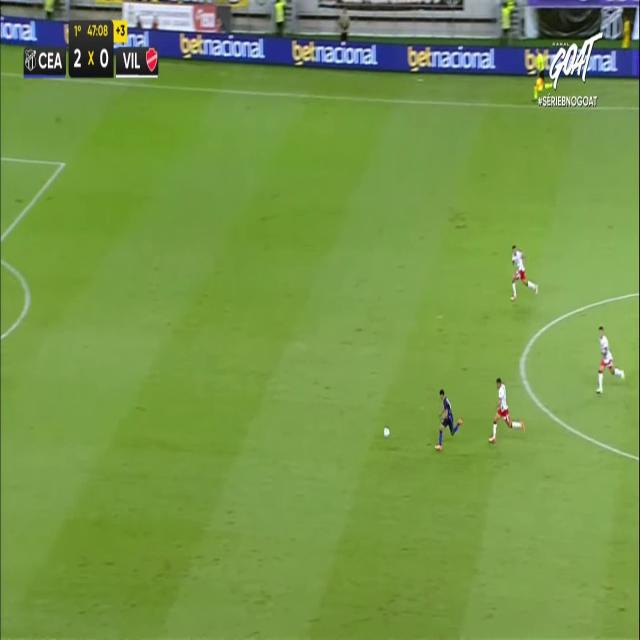ball: (384, 427, 389, 437)
player: (488, 377, 524, 443), (595, 324, 625, 393), (434, 388, 462, 450), (510, 242, 538, 300)
referee: (530, 49, 556, 106)
